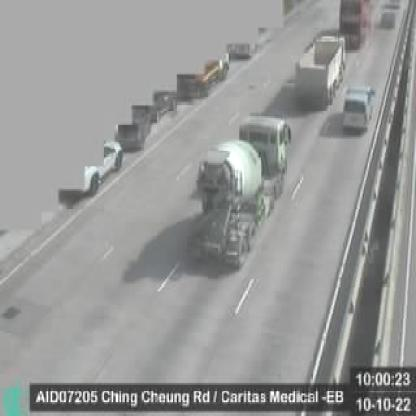Bus: (341, 0, 369, 49)
Car: (341, 82, 376, 132)
Truck: (193, 117, 290, 269), (296, 32, 346, 109)
